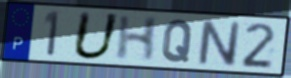1: (42, 9, 61, 58)
2: (238, 22, 278, 70)
H: (113, 15, 161, 63)
N: (196, 18, 241, 68)
Q: (160, 18, 195, 64)
U: (70, 10, 123, 62)
